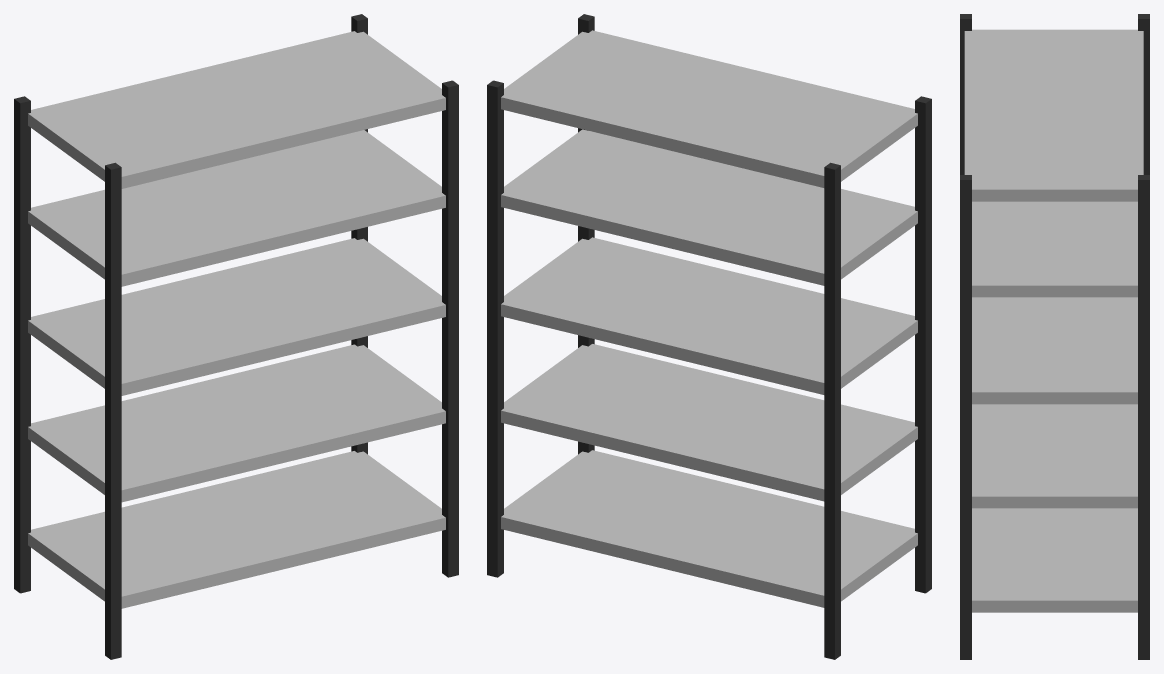
Rendered from Res01_Tray.fbx.
3 views of the same model, side by side, from view 1: azimuth 30°, elevation 25°; view 2: azimuth 150°, elevation 25°; view 3: azimuth 270°, elevation 25° (orthographic). The views are drawn at different scales.
Parts seen in each view (by area): view 1: Res01_Tray; view 2: Res01_Tray; view 3: Res01_Tray.
Boxes of the visible parts, x1=… form: Res01_Tray: x1=14, y1=14, x2=458, y2=659; Res01_Tray: x1=487, y1=14, x2=931, y2=659; Res01_Tray: x1=960, y1=14, x2=1149, y2=659.
Size of the model in its own units: 192 by 258 by 92.62.
